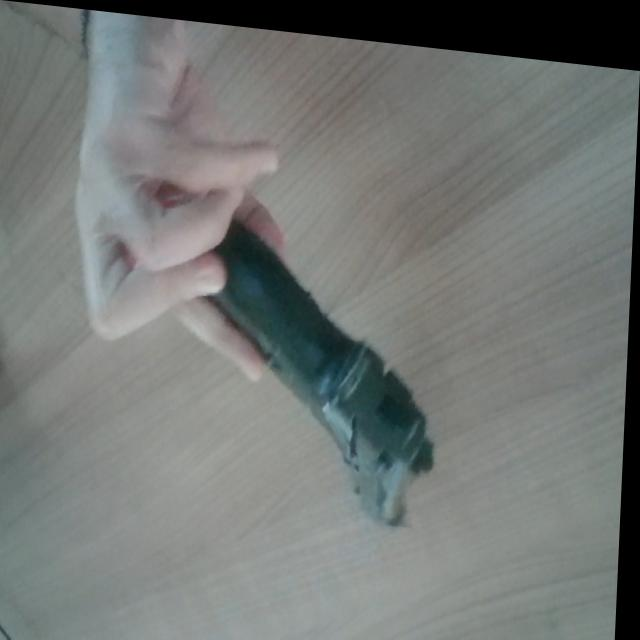handgun: (165, 132, 472, 552)
